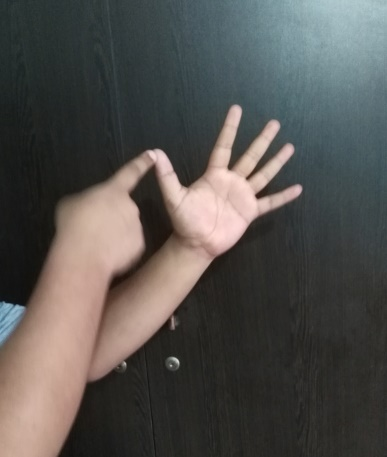a: (91, 104, 303, 272)
